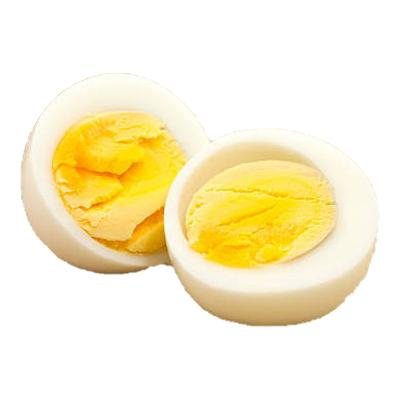telur: (196, 157, 340, 300), (52, 94, 167, 256)
